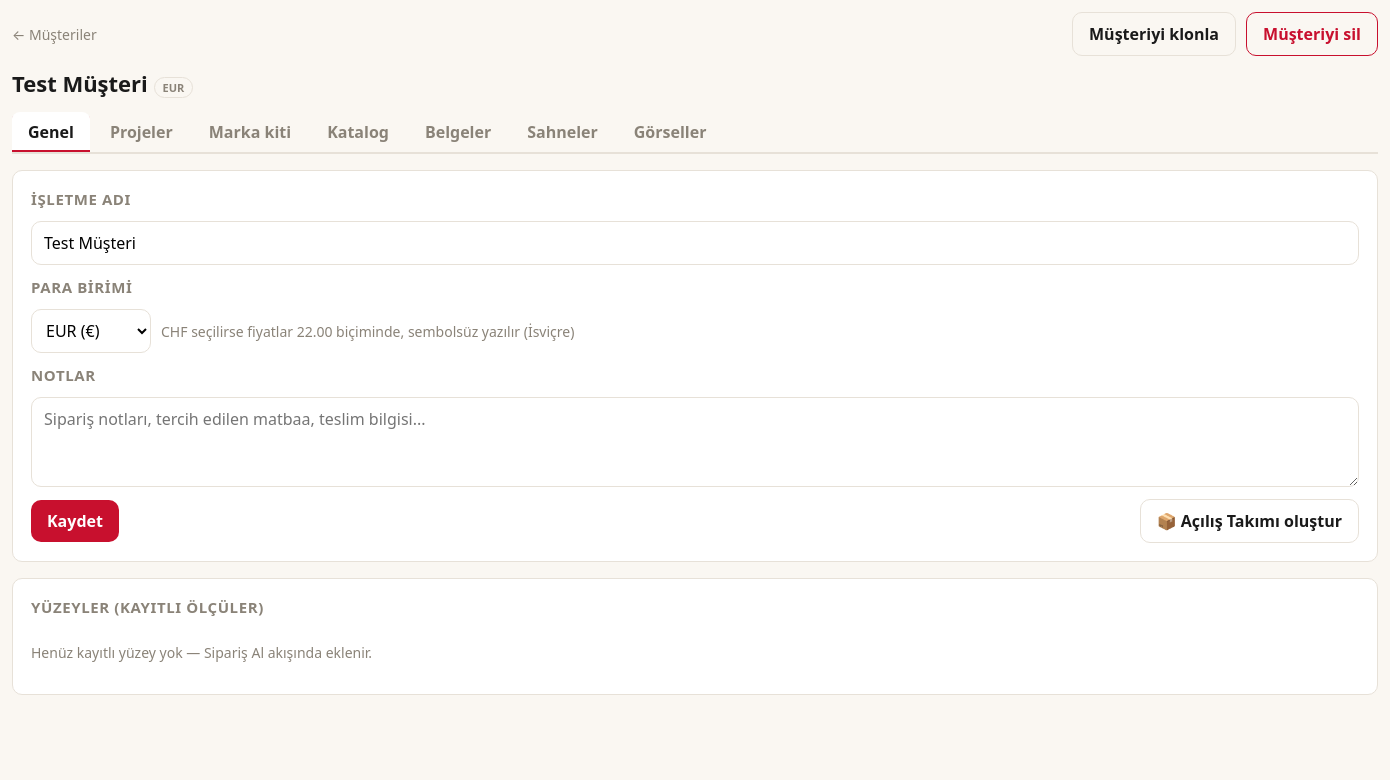
Açılış Takımı — preset + belgeler tek işlemde › PRESET DÜŞERSE belge açma HİÇ denenmez ve gerekçe görünür
Step 1. Click the button "📦 Açılış Takımı oluştur" → (1249, 521), box [1140,499,1359,543]
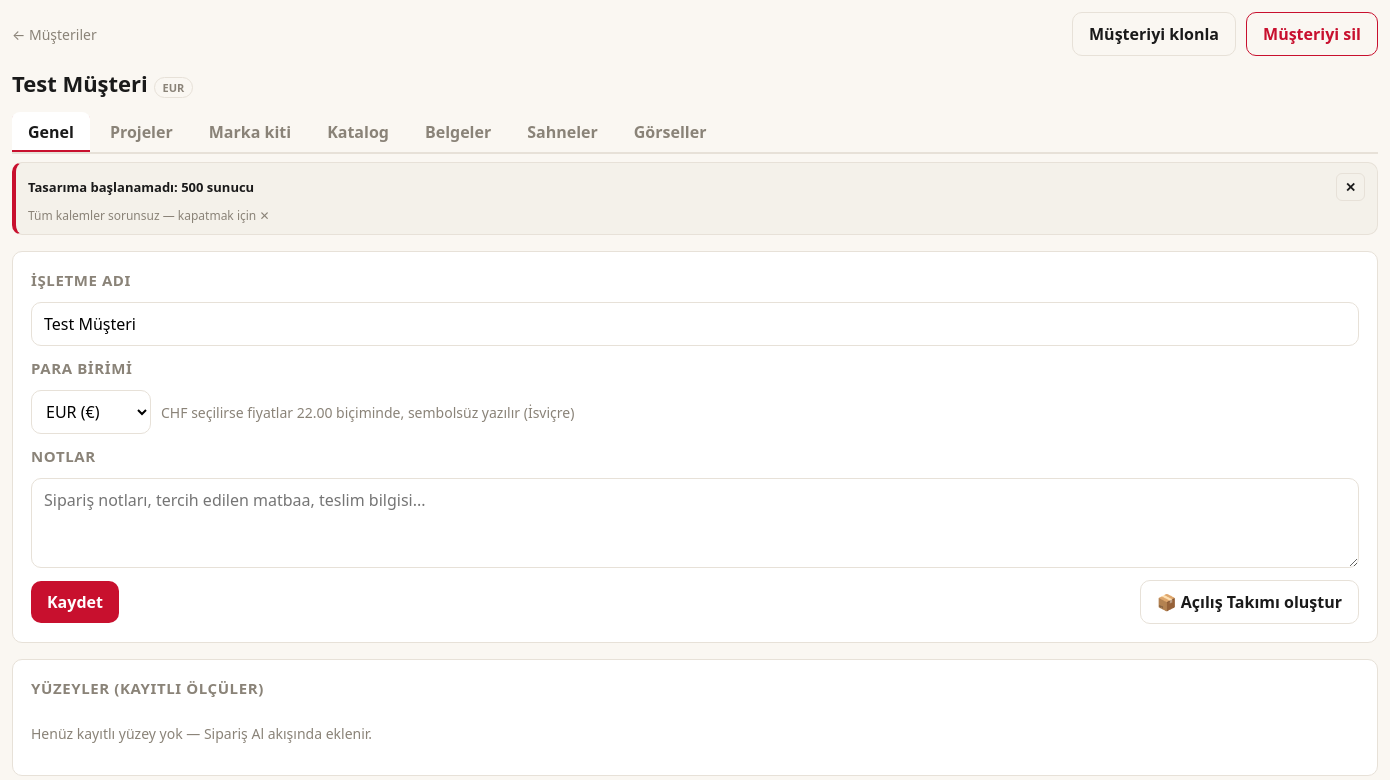
Expected: the text "Tasarıma başlanamadı: 500 sunucu" is shown, [28,178,254,196]
